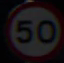Speed limit: (3, 1, 61, 58)
